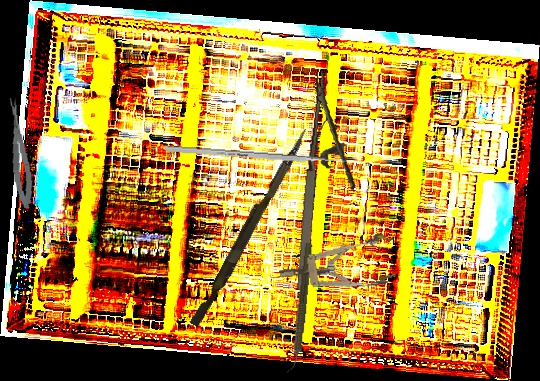Handpiece: (286, 242, 315, 375)
Micro Scissor: (5, 96, 36, 210)
Needle Holder: (290, 70, 369, 295)
Pusher: (189, 123, 310, 331), (164, 145, 358, 166)
Speculum: (276, 232, 399, 298)
